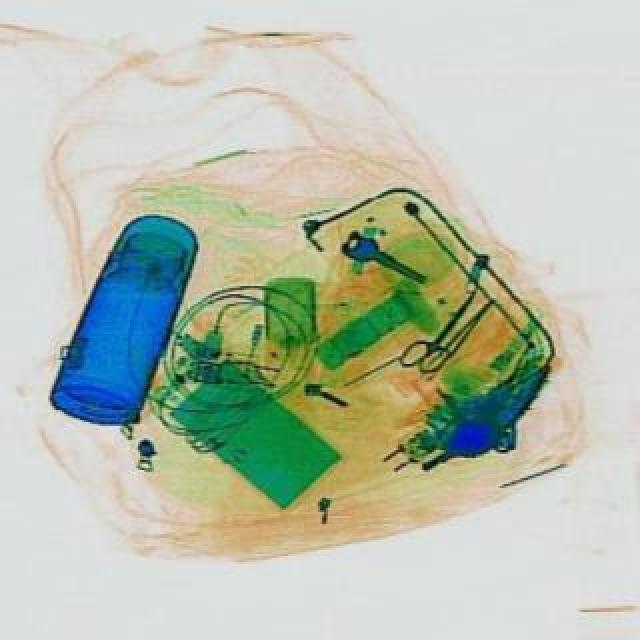pliers: (392, 282, 486, 382)
